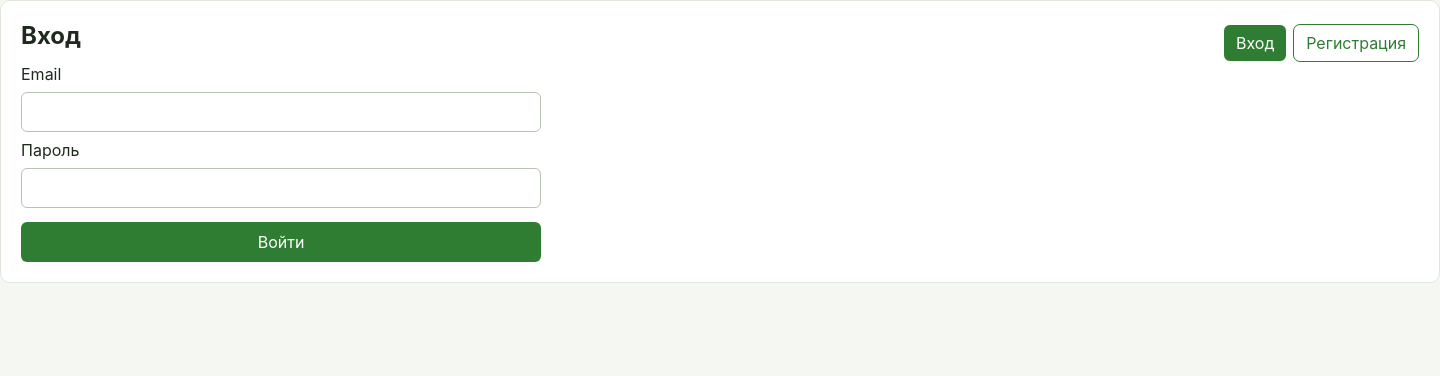
Scenario: LoginForm API interactions › switches between login and registration modes
Expected: the heading "Вход" is shown, [21, 21, 81, 50]
Click the button "Регистрация".
click(1356, 42)  # box [1293, 24, 1419, 62]
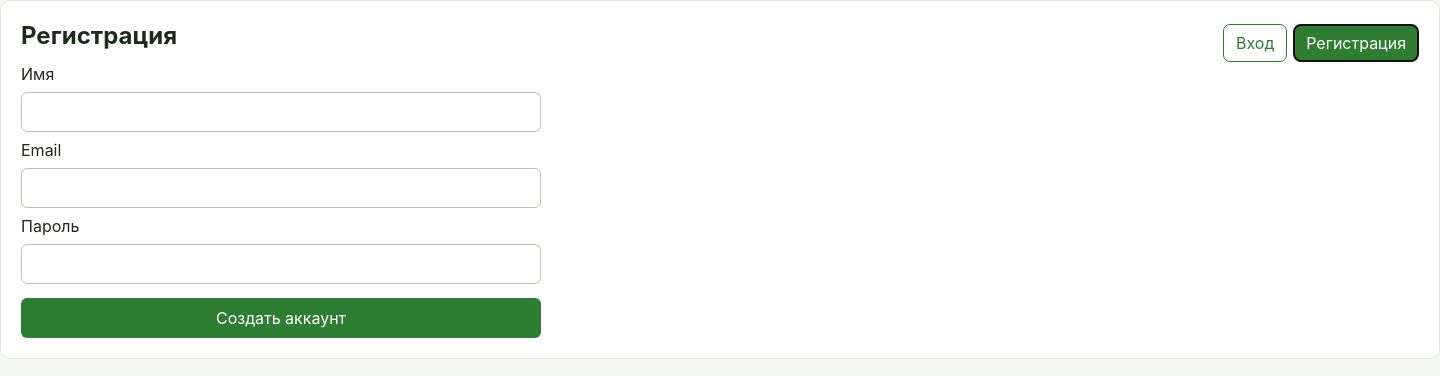
Result: the heading "Регистрация" is shown at [21, 21, 177, 50]
Click the button "Вход".
click(1255, 42)  # box [1223, 24, 1287, 62]
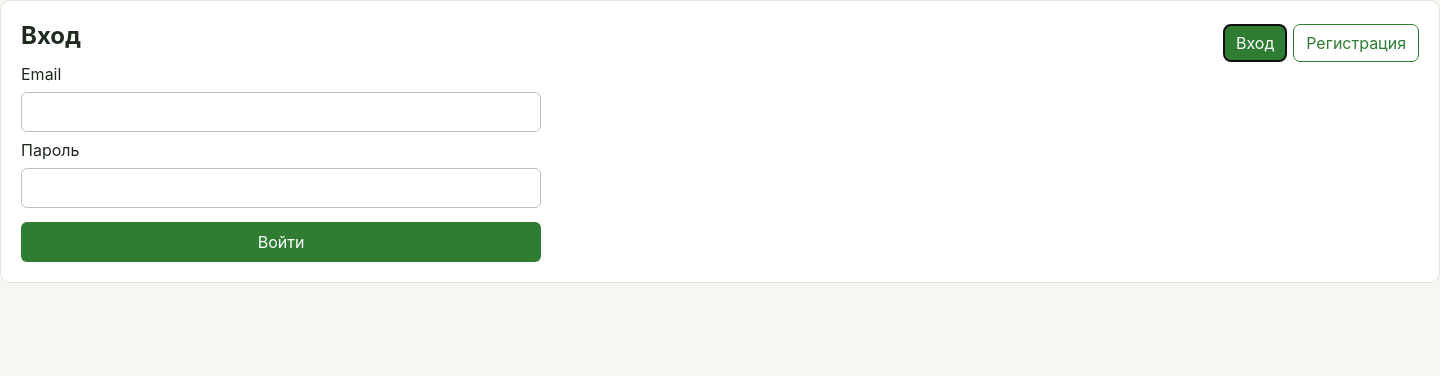
Result: the heading "Вход" is shown at [21, 21, 81, 50]
